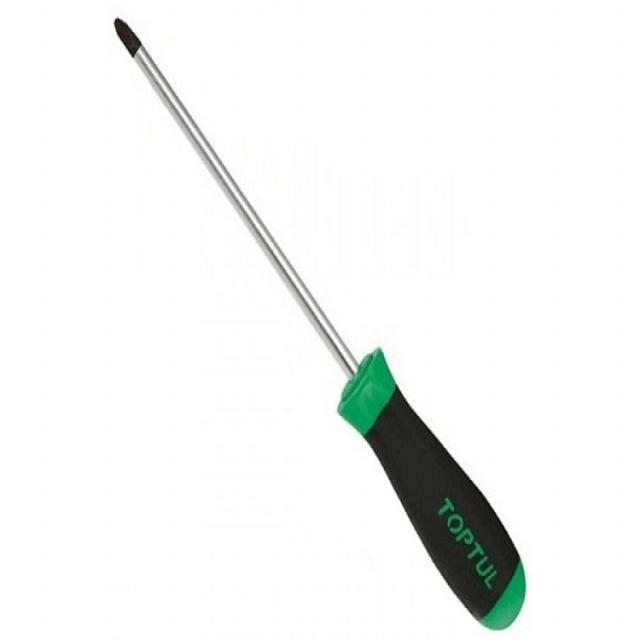screwdriver: (112, 12, 526, 632)
